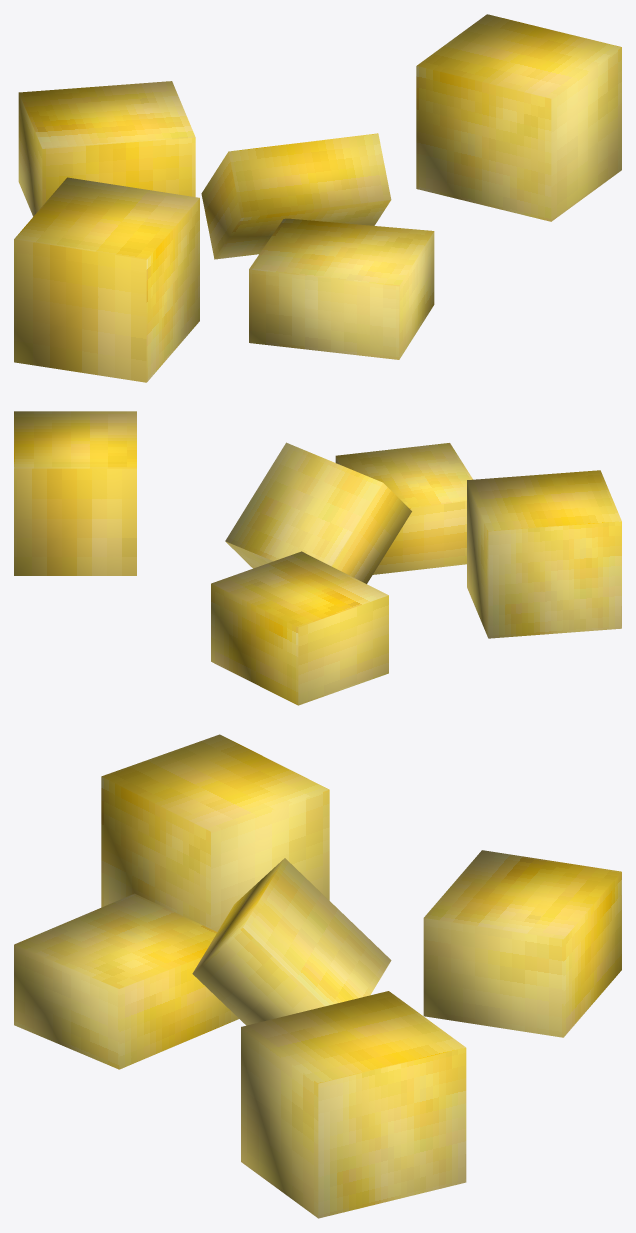
Rendered from WorldItem_DicedPineapple.fbx.
3 views of the same model, one above another, from view 1: azimuth 30°, elevation 25°; view 2: azimuth 150°, elevation 25°; view 3: azimuth 270°, elevation 25° (orthographic). The views are drawn at different scales.
Visible parts, largest first — view 1: BaconBits; view 2: BaconBits; view 3: BaconBits.
Part boxes in pixels (bbox=[...]): BaconBits: bbox=[14, 14, 621, 382]; BaconBits: bbox=[14, 411, 621, 705]; BaconBits: bbox=[14, 734, 621, 1218].
Bounding box in the file's own units: 17.41 × 3.31 × 12.81.
